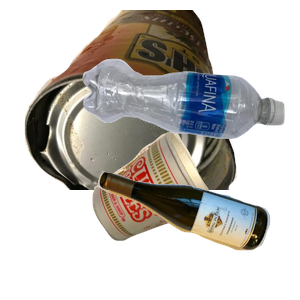glass: (95, 168, 300, 300)
metal: (22, 10, 251, 190)
plastic: (80, 56, 300, 187)
trash: (90, 129, 295, 300)
